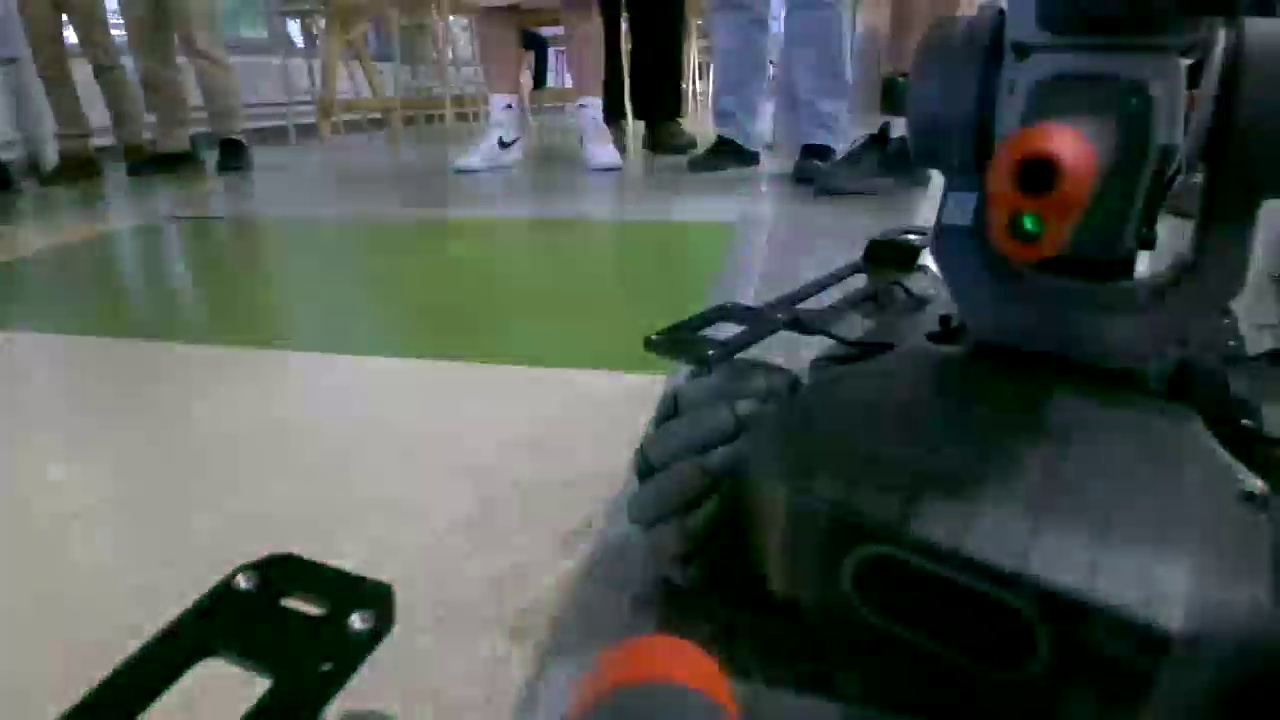robot: (631, 4, 1280, 720)
